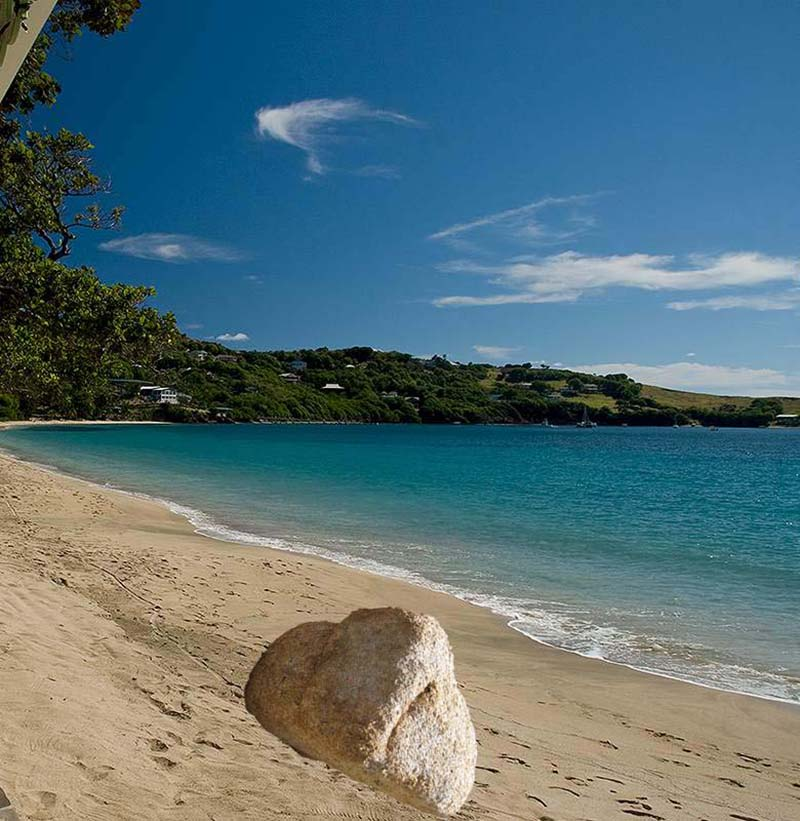Rocks: (245, 594, 490, 816)
